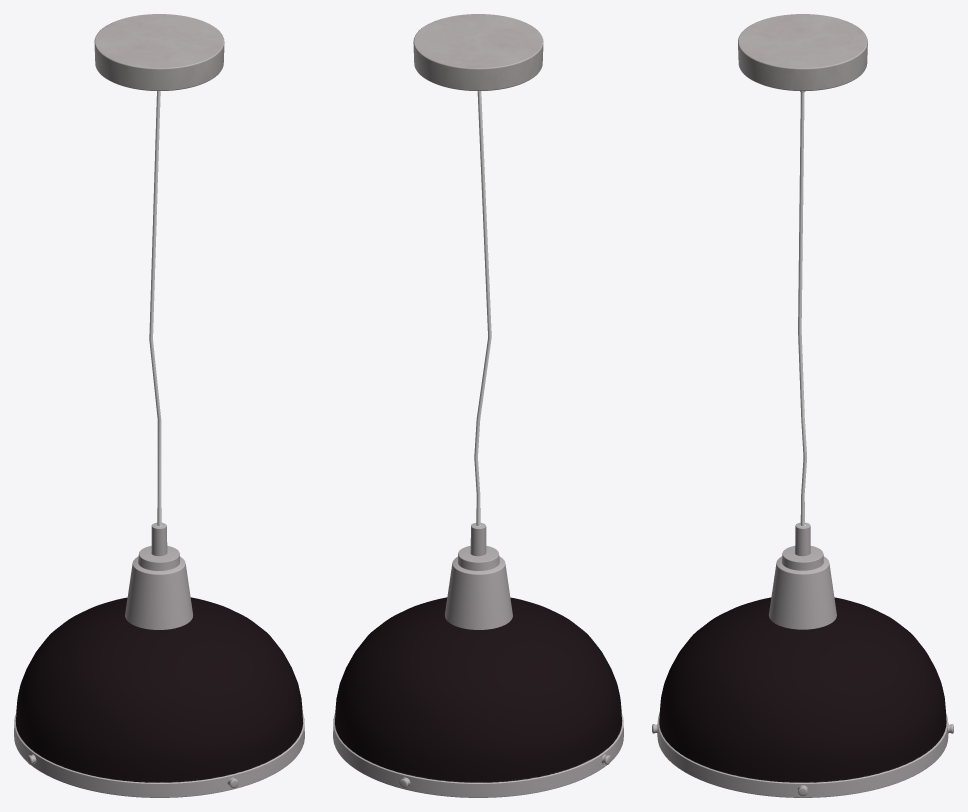
3 views of the same model, side by side, from view 1: azimuth 30°, elevation 25°; view 2: azimuth 150°, elevation 25°; view 3: azimuth 270°, elevation 25° (orthographic).
Visible parts, largest first — view 1: RootNode; view 2: RootNode; view 3: RootNode.
Part boxes in pixels (x1=…): RootNode: x1=14, y1=14, x2=304, y2=797; RootNode: x1=333, y1=14, x2=623, y2=797; RootNode: x1=652, y1=14, x2=953, y2=797.
Size of the model in its own units: 0.5687 by 1.45 by 0.5685.
Materials: 1 (1 with a texture image).
